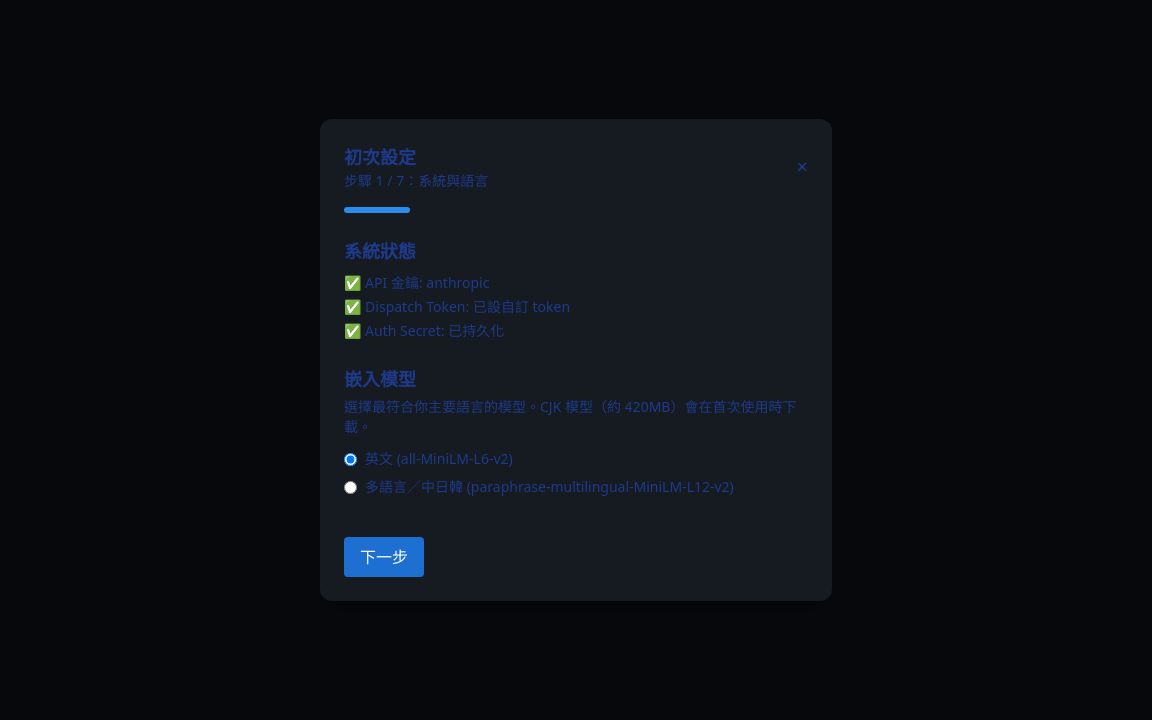
Test: SetupWizard › advances to next step when Next is clicked on step 1
What coordinates should you click on to do the following:
click the button "下一步"
I would click on:
 (384, 557)
Its box is x1=344 y1=537 x2=424 y2=577.
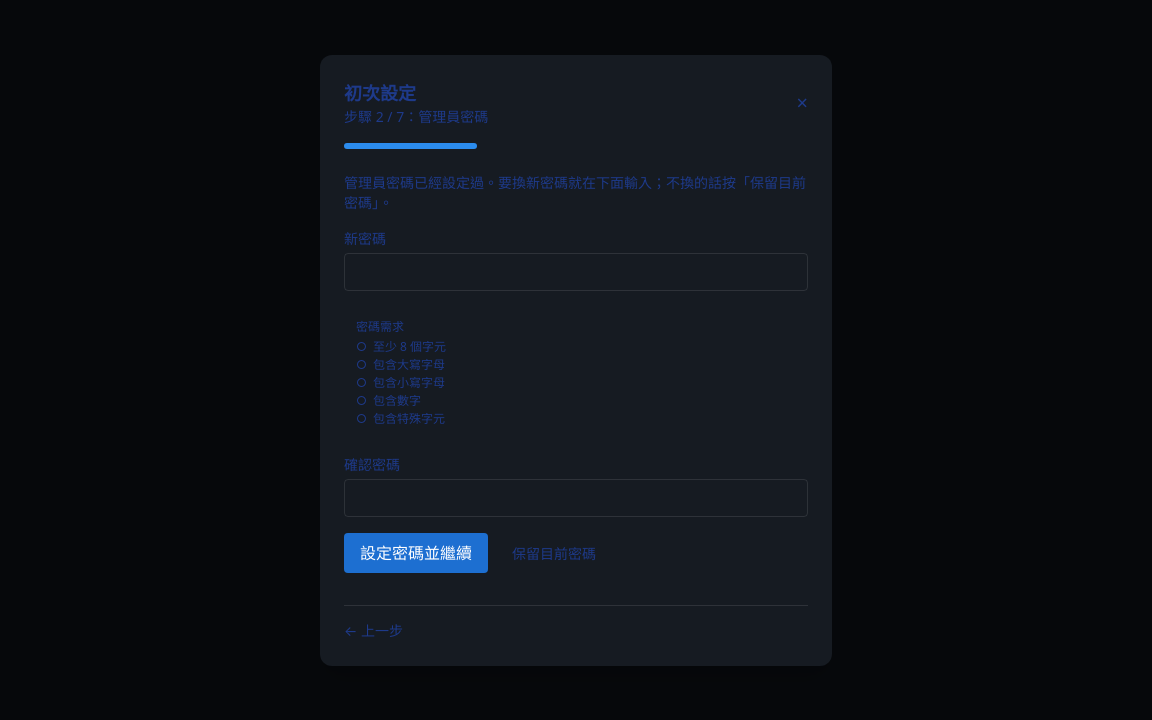
Expected: the text "步驟 2 / 7：管理員密碼" is shown, x1=344 y1=106 x2=488 y2=126
